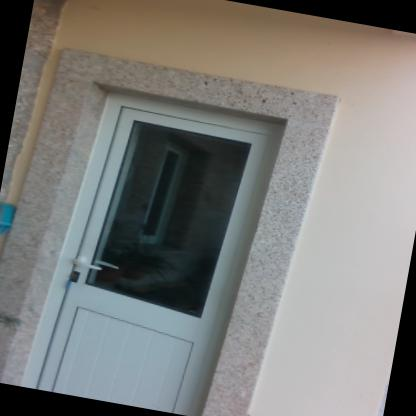closed: (17, 77, 296, 415)
